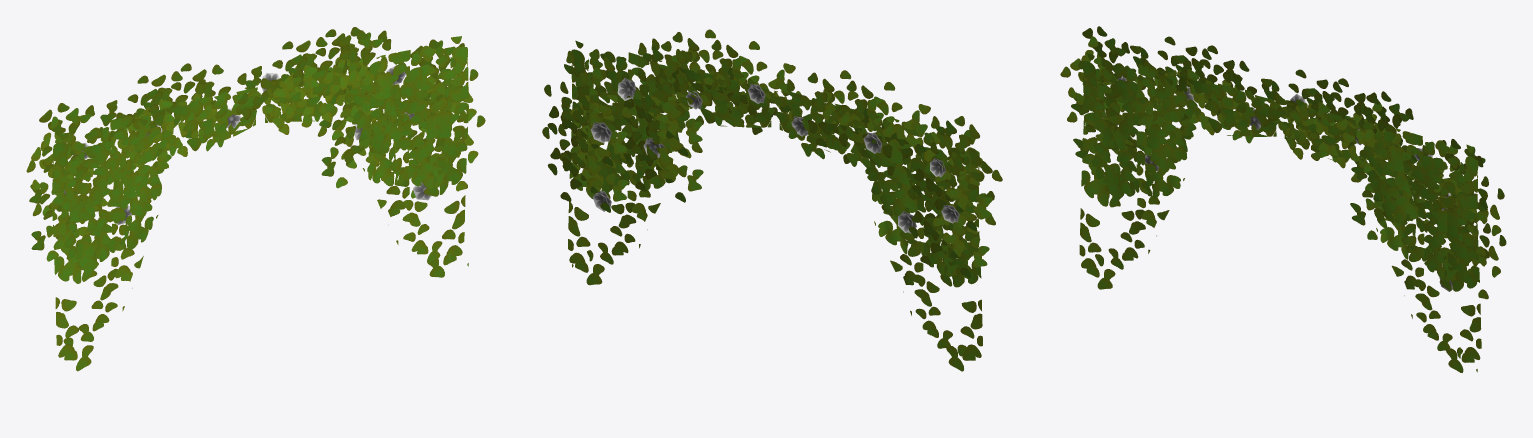
The model's file is SM_Vine_05.fbx.
The picture shows the model from 3 angles, left to right: view 1: azimuth 30°, elevation 25°; view 2: azimuth 150°, elevation 25°; view 3: azimuth 330°, elevation 25°; orthographic projection. The views are drawn at different scales.
Visible parts, largest first — view 1: SM_Vine_05; view 2: SM_Vine_05; view 3: SM_Vine_05.
Part boxes in pixels (left/top/right/bottom): SM_Vine_05: left=26, top=27, right=485, bottom=371; SM_Vine_05: left=542, top=29, right=1002, bottom=371; SM_Vine_05: left=1060, top=26, right=1506, bottom=372.
Bounding box in the file's own units: 7.94 × 5.33 × 0.5579.
